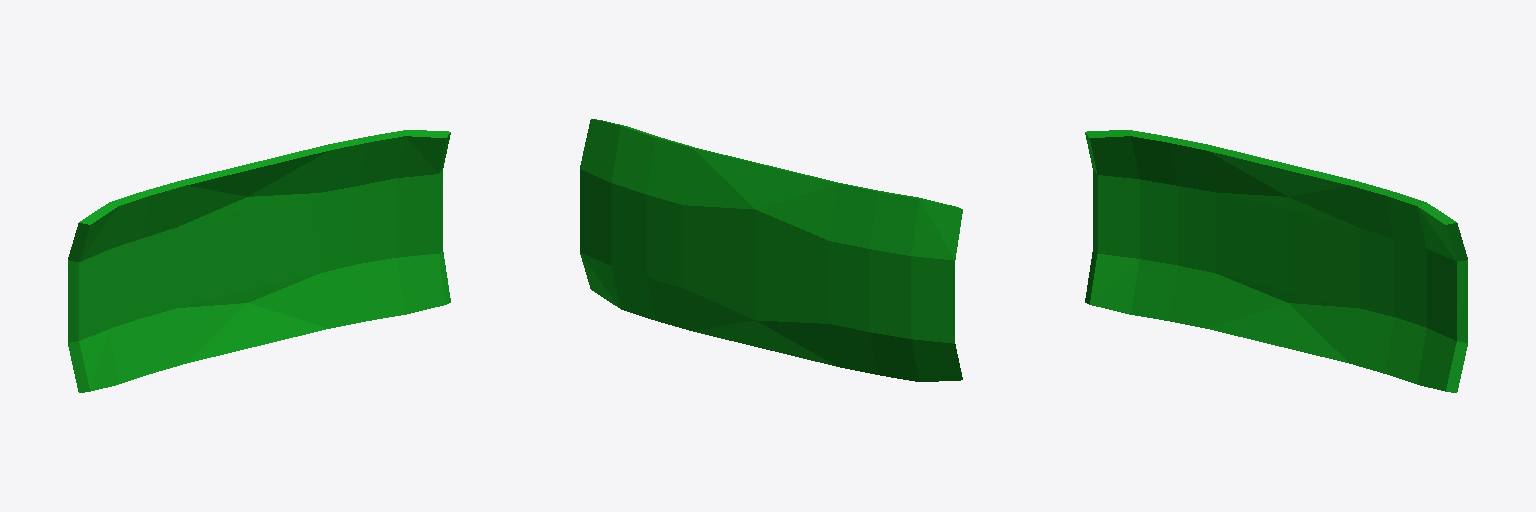
Rendered from goal.obj.
3 renders of one model, left to right at view 1: azimuth 30°, elevation 25°; view 2: azimuth 150°, elevation 25°; view 3: azimuth 330°, elevation 25°, orthographic.
Parts seen in each view (by area): view 1: Cube_Cube.001; view 2: Cube_Cube.001; view 3: Cube_Cube.001.
Boxes of the visible parts, box(x1,y1,x2,y2) form: Cube_Cube.001: box(68, 130, 450, 392); Cube_Cube.001: box(580, 119, 962, 381); Cube_Cube.001: box(1085, 130, 1467, 392).
Bounding box in the file's own units: 7.1 × 3.31 × 0.8051.